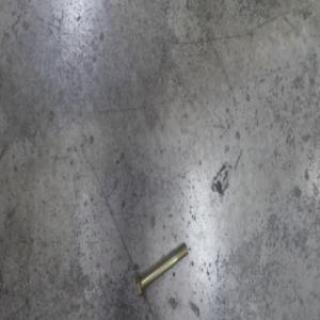Bolttrack_idkeyframe: (133, 240, 186, 301)
